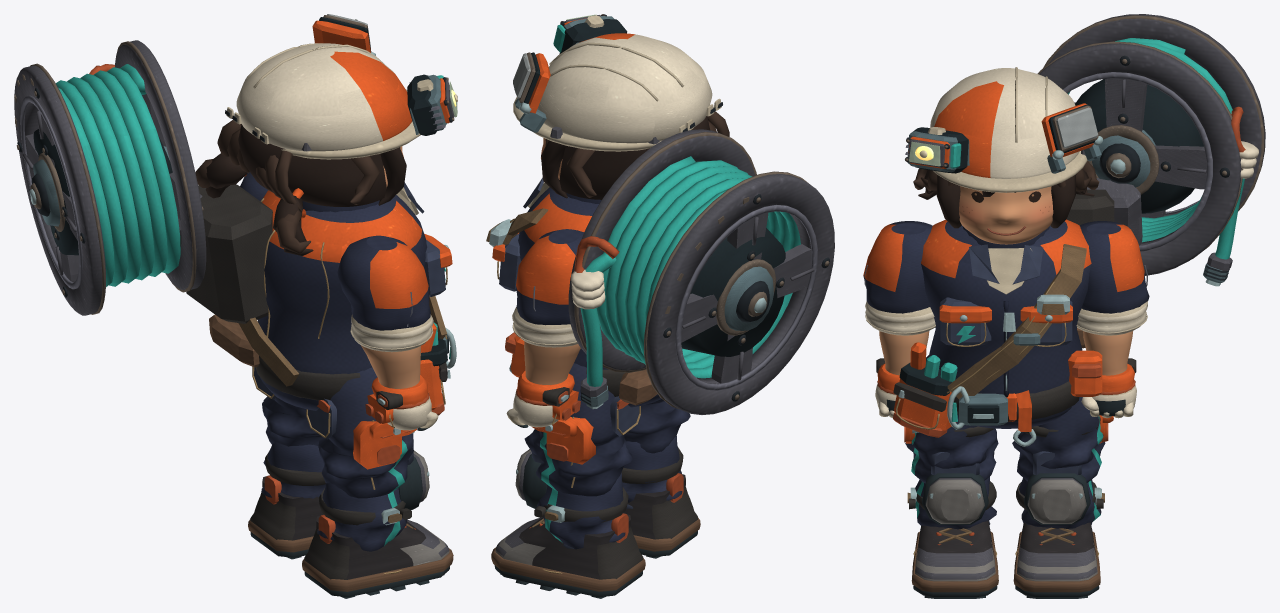
File: mechanic-dcc.glb
3 views of the same model, side by side, from view 1: azimuth 30°, elevation 25°; view 2: azimuth 150°, elevation 25°; view 3: azimuth 270°, elevation 25° (orthographic). The views are drawn at different scales.
Visible parts, largest first — view 1: Torso Mesh, Head Mesh, ShinPlus Mesh, ShoulderPlus Mesh, ThighPlus Mesh, ShinMinus Mesh, ForearmPlus Mesh, ThighMinus Mesh; view 2: Torso Mesh, Head Mesh, ShinMinus Mesh, ThighMinus Mesh, ShinPlus Mesh, ShoulderMinus Mesh, ForearmMinus Mesh, ThighPlus Mesh; view 3: Torso Mesh, Head Mesh, ShinPlus Mesh, ShinMinus Mesh, ShoulderPlus Mesh, ShoulderMinus Mesh, ThighMinus Mesh, ThighPlus Mesh, ForearmMinus Mesh, ForearmPlus Mesh.
Boxes of the visible parts, box(x1,y1,x2,y2) form: Torso Mesh: box(14, 40, 456, 415); Head Mesh: box(195, 14, 457, 255); ShinPlus Mesh: box(302, 450, 453, 598); ShoulderPlus Mesh: box(337, 235, 433, 352); ThighPlus Mesh: box(306, 367, 416, 498); ShinMinus Mesh: box(248, 442, 325, 559); ForearmPlus Mesh: box(361, 345, 438, 430); ThighMinus Mesh: box(252, 366, 322, 447); Torso Mesh: box(486, 129, 834, 414); Head Mesh: box(513, 14, 729, 199); ShinMinus Mesh: box(491, 449, 645, 598); ThighMinus Mesh: box(524, 363, 640, 496); ShinPlus Mesh: box(621, 435, 700, 558); ShoulderMinus Mesh: box(512, 229, 584, 347); ForearmMinus Mesh: box(506, 341, 580, 427); ThighPlus Mesh: box(624, 399, 690, 453); Torso Mesh: box(893, 14, 1265, 446); Head Mesh: box(905, 67, 1102, 244); ShinPlus Mesh: box(907, 473, 998, 598); ShinMinus Mesh: box(1013, 473, 1104, 598); ShoulderPlus Mesh: box(863, 221, 935, 335); ShoulderMinus Mesh: box(1076, 221, 1149, 335); ThighMinus Mesh: box(1012, 397, 1113, 482); ThighPlus Mesh: box(904, 355, 998, 483); ForearmMinus Mesh: box(1081, 331, 1136, 418); ForearmPlus Mesh: box(875, 331, 929, 417).
Bounding box in the file's own units: 1.18 × 1.72 × 1.3.
1 material, 1 textured.
